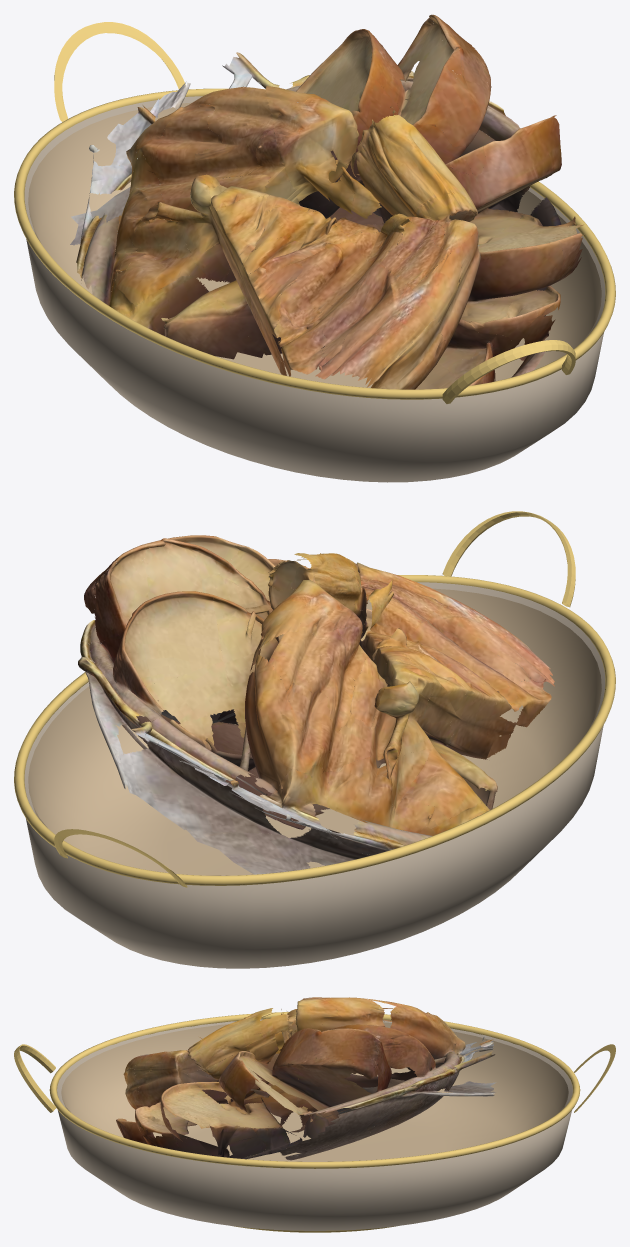
File: non.glb
3 views of the same model, one above another, from view 1: azimuth 30°, elevation 25°; view 2: azimuth 150°, elevation 25°; view 3: azimuth 270°, elevation 25° (orthographic). The views are drawn at different scales.
Visible parts, largest first — view 1: tripo_node_68bfceaf-0530-46a7-a327-ccd168dfaaa5, bowl, lining, rim, handle, handle.001; view 2: tripo_node_68bfceaf-0530-46a7-a327-ccd168dfaaa5, bowl, lining, rim, handle.001, handle; view 3: tripo_node_68bfceaf-0530-46a7-a327-ccd168dfaaa5, bowl, lining, rim, handle.001, handle.
Boxes of the visible parts, x1,y1,x2,y2 form: tripo_node_68bfceaf-0530-46a7-a327-ccd168dfaaa5: (70,14,584,389); bowl: (24,96,605,482); lining: (28,102,601,387); rim: (14,88,615,399); handle: (54,22,185,121); handle.001: (442,340,575,403); tripo_node_68bfceaf-0530-46a7-a327-ccd168dfaaa5: (78,535,554,874); bowl: (24,582,605,968); lining: (28,588,601,875); rim: (14,575,615,885); handle.001: (442,511,575,607); handle: (54,829,187,887); tripo_node_68bfceaf-0530-46a7-a327-ccd168dfaaa5: (116,997,496,1160); bowl: (57,1019,572,1230); lining: (61,1022,568,1161); rim: (49,1012,580,1168); handle.001: (14,1044,55,1112); handle: (574,1044,615,1112).
Bounding box in the file's own units: 0.694 × 0.4441 × 1.15.
Materials: 5 (1 with a texture image).
